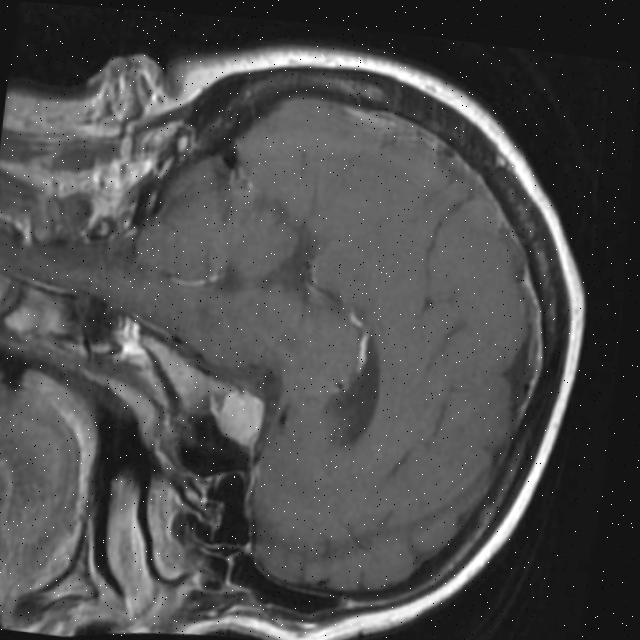Pituitary: (203, 382, 266, 450)
